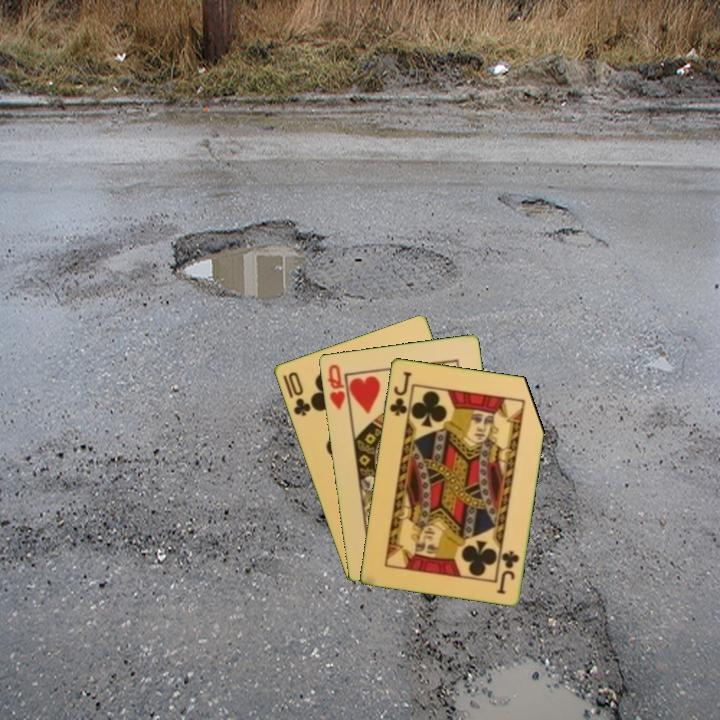10c: (284, 368, 313, 419)
Jc: (386, 367, 414, 418), (494, 547, 522, 597)
Qh: (324, 360, 348, 413)
